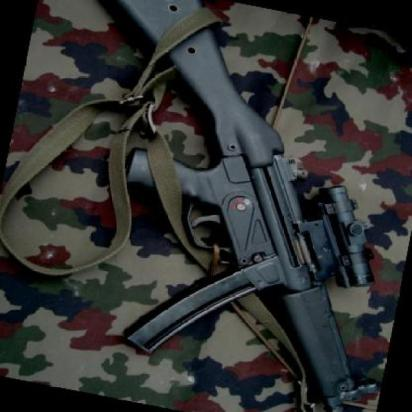Gun: (86, 0, 390, 412)
